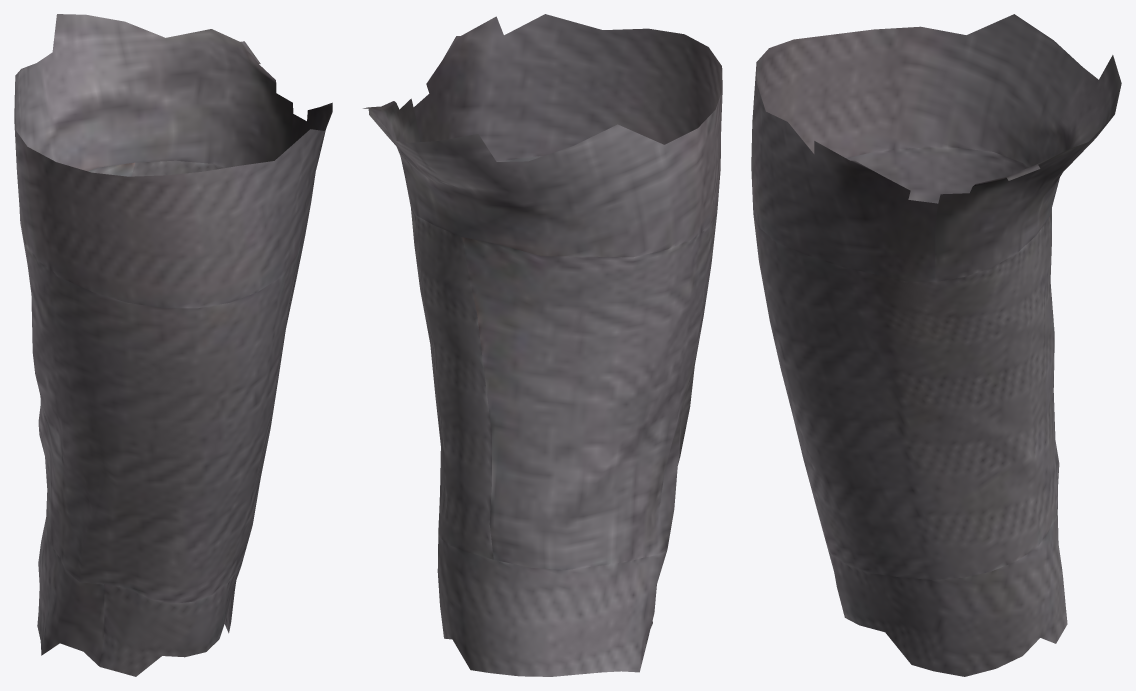
Rendered from ProfesorRightLeg.obj.
3 views of the same model, side by side, from view 1: azimuth 30°, elevation 25°; view 2: azimuth 150°, elevation 25°; view 3: azimuth 270°, elevation 25° (orthographic).
Visible parts, largest first — view 1: ProfesorRightLeg; view 2: ProfesorRightLeg; view 3: ProfesorRightLeg.
Boxes of the visible parts, left/top/right/bottom form: ProfesorRightLeg: left=14, top=14, right=332, bottom=676; ProfesorRightLeg: left=363, top=14, right=722, bottom=676; ProfesorRightLeg: left=751, top=14, right=1121, bottom=676.
Size of the model in its own units: 18.91 by 37.14 by 21.57.
1 material, 1 textured.
